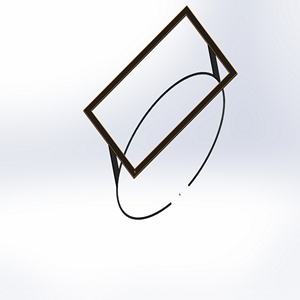circle: (82, 5, 240, 221)
